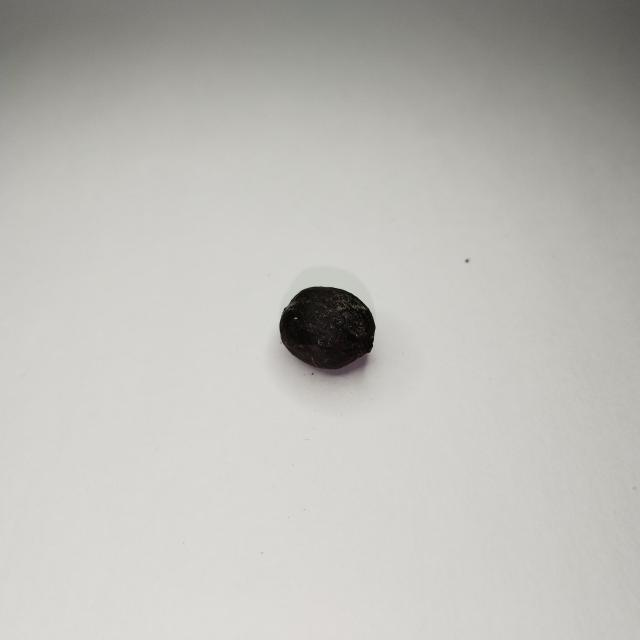Danado: (280, 285, 375, 373)
